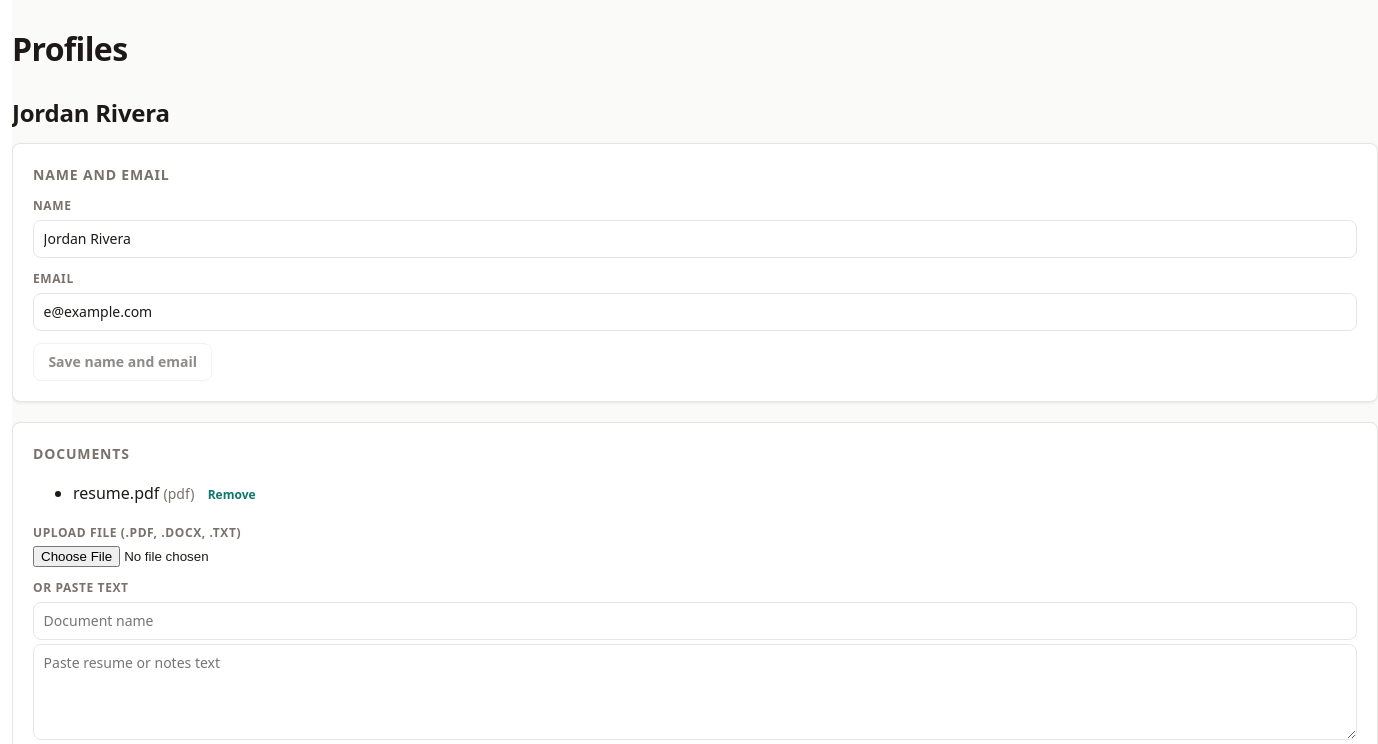
Scenario: ProfileScreen › renames a person and changes their email through updateProfile, then refreshes the list
The width and height of the screenshot is (1378, 744).
Check: the field labelled "Email" holds "e@example.com", box [33,293,1357,331]
Check: the button "Save name and email" is disabled, box [33,343,212,381]
Replace the text in the field labelled "Name" with "Jordan A. Rivera ". click: (695, 239)
box: [33,220,1357,258]
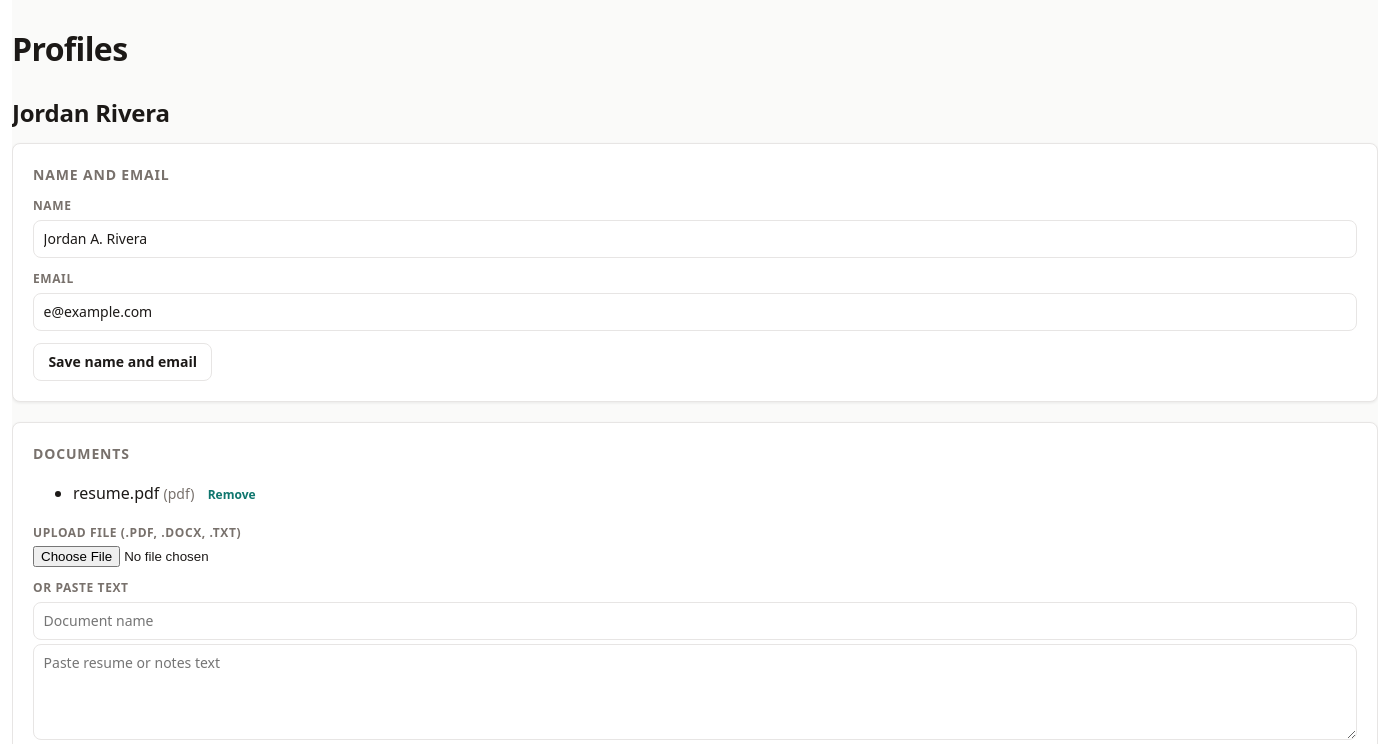
Replace the text in the field labelled "Email" with "jordan@gmail.com". click: (695, 312)
box: [33,293,1357,331]
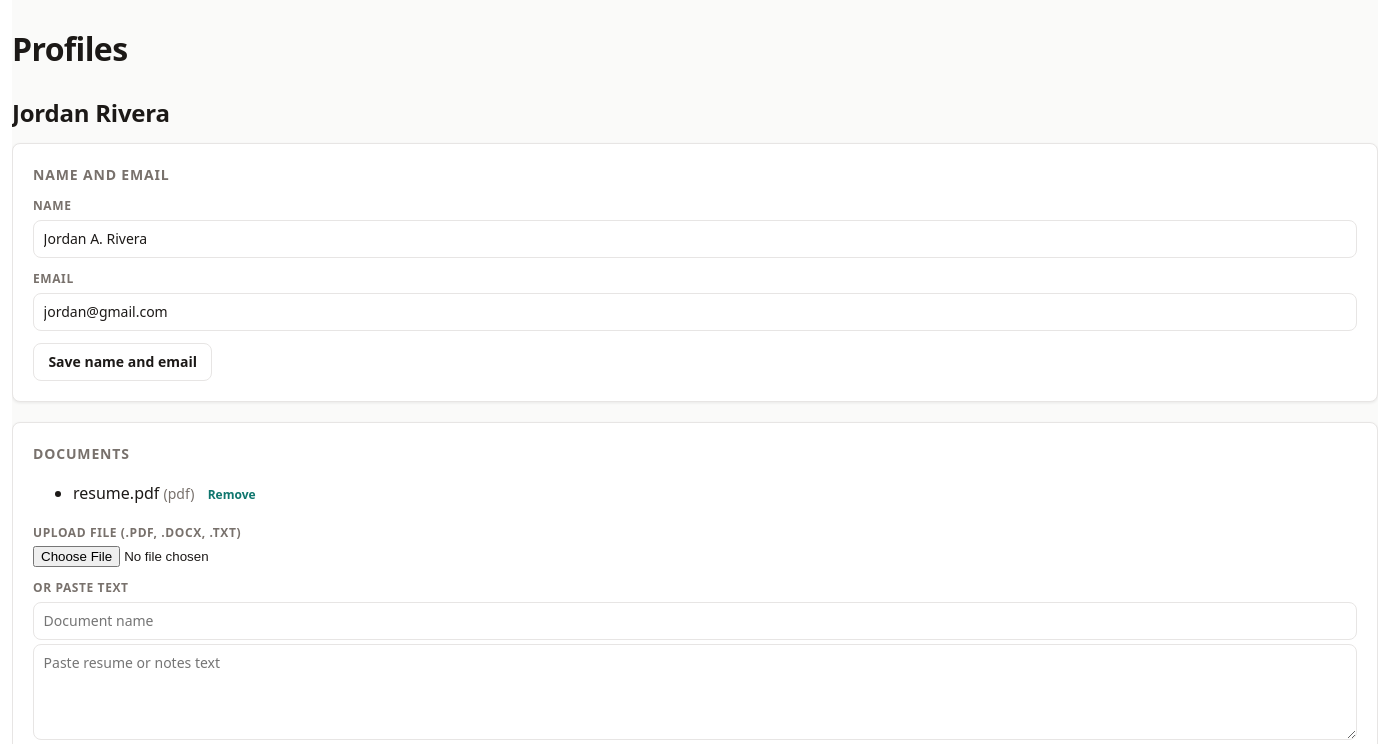
Click the button "Save name and email". click: click(123, 362)
box: [33,343,212,381]
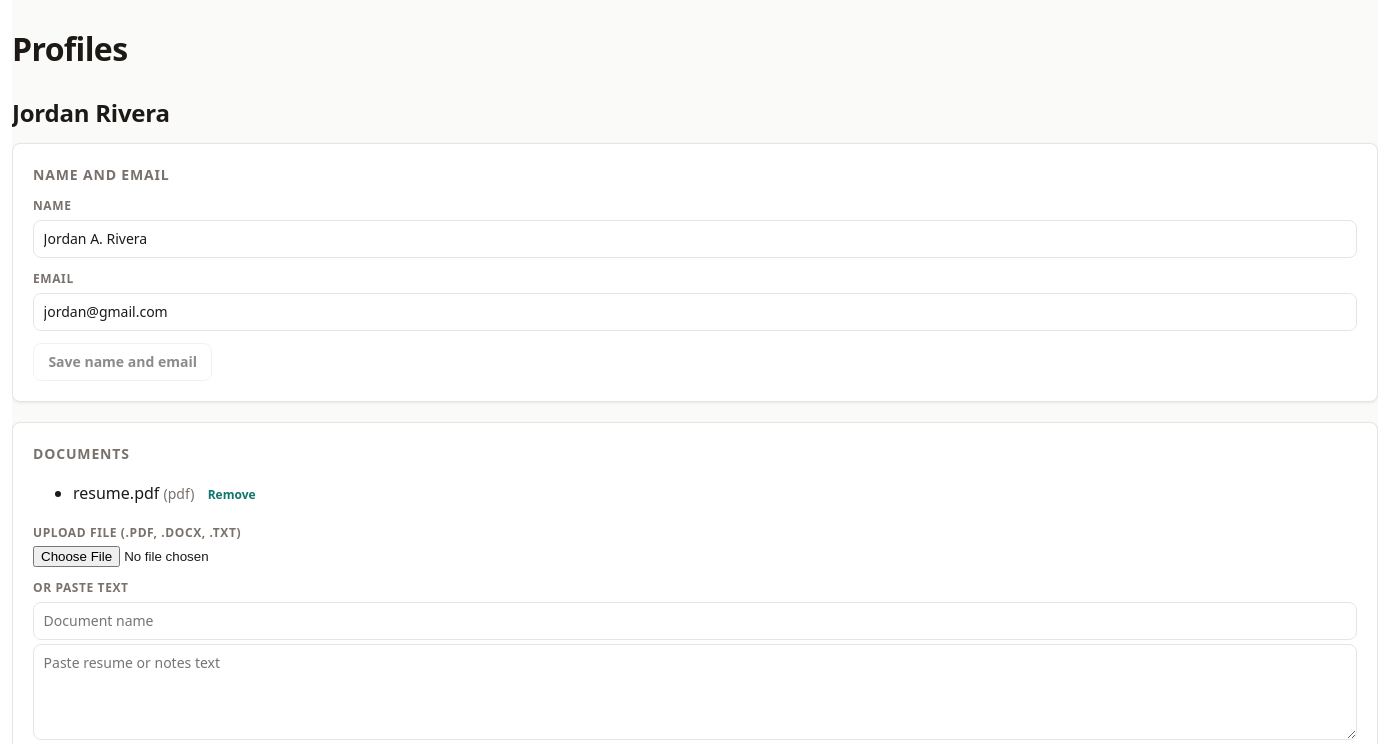
Check: the button "Save name and email" is disabled, box [33,343,212,381]
